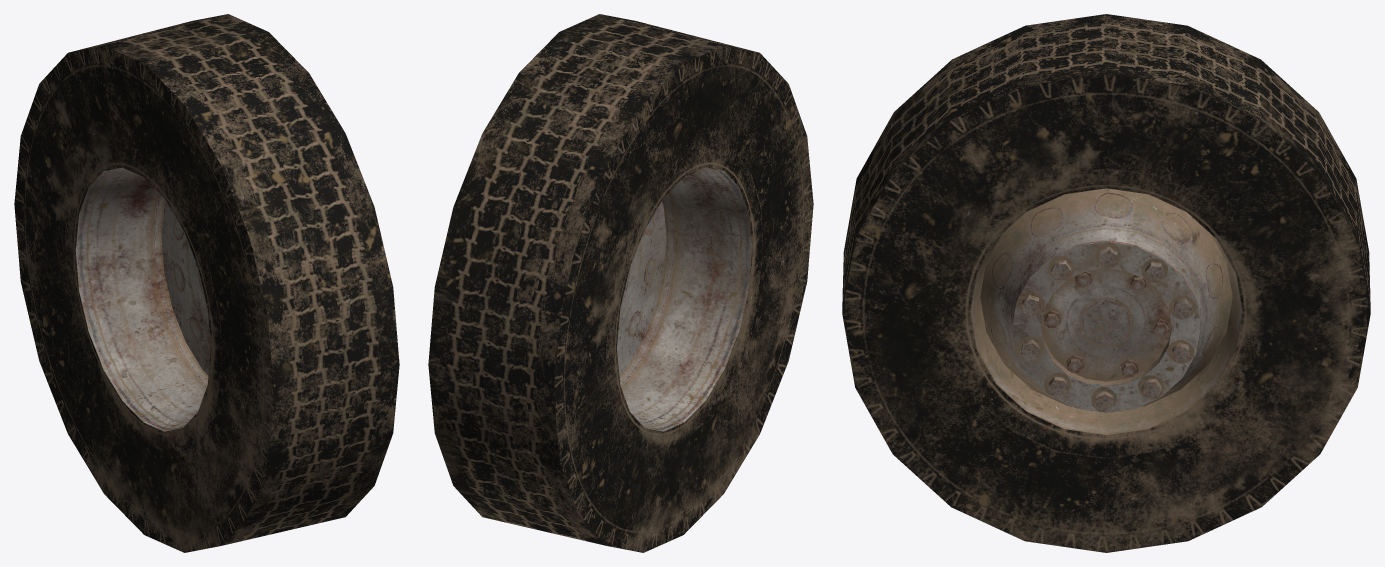
Rendered from Lorry_tyre_01a_snaps005.fbx.
The picture shows the model from 3 angles, left to right: view 1: azimuth 30°, elevation 25°; view 2: azimuth 150°, elevation 25°; view 3: azimuth 270°, elevation 25°; orthographic projection.
Parts seen in each view (by area): view 1: Lorry_tyre_01a_snaps005_LOD0; view 2: Lorry_tyre_01a_snaps005_LOD0; view 3: Lorry_tyre_01a_snaps005_LOD0.
Part boxes in pixels (x1,y1,x2,y2): Lorry_tyre_01a_snaps005_LOD0: (14,14,399,552); Lorry_tyre_01a_snaps005_LOD0: (428,14,813,552); Lorry_tyre_01a_snaps005_LOD0: (842,14,1370,552).
Size of what is drawn, in the model's own units: 40.76 by 114 by 114.
